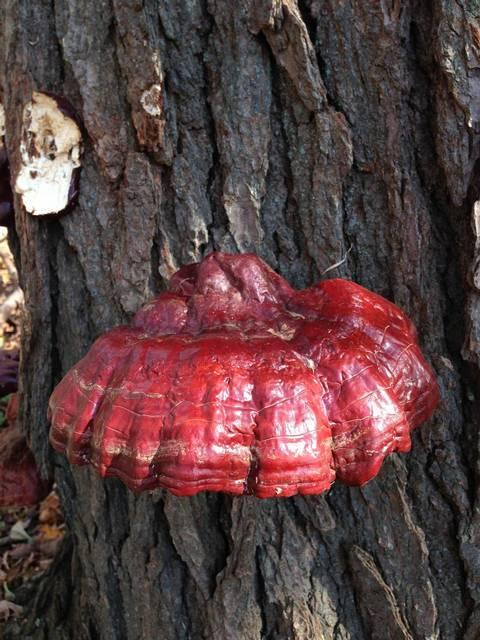poisonous_mushroom: (45, 249, 441, 500), (8, 88, 86, 218)
